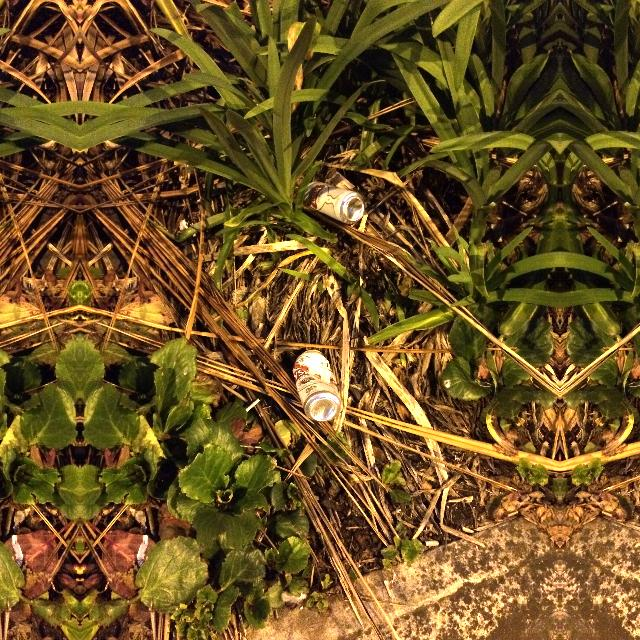Metal: (288, 344, 346, 424), (295, 177, 369, 227)
